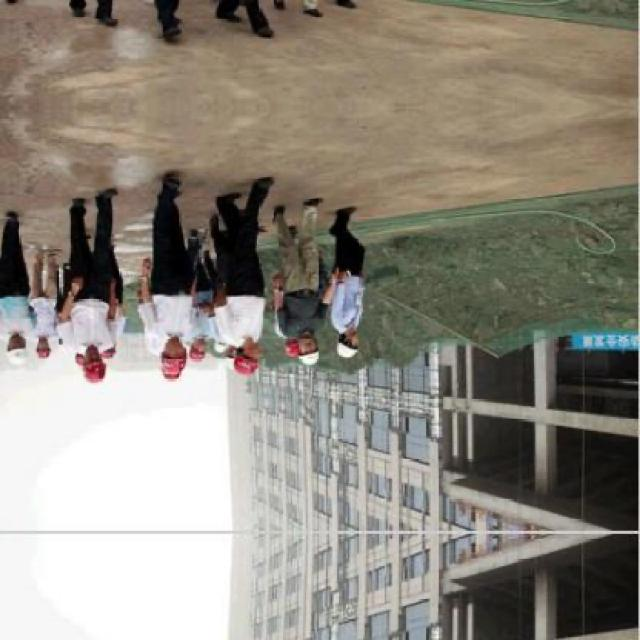con casco: (282, 328, 336, 386), (145, 346, 212, 384), (330, 332, 386, 366), (12, 330, 58, 362), (76, 347, 122, 378), (232, 342, 262, 384)
